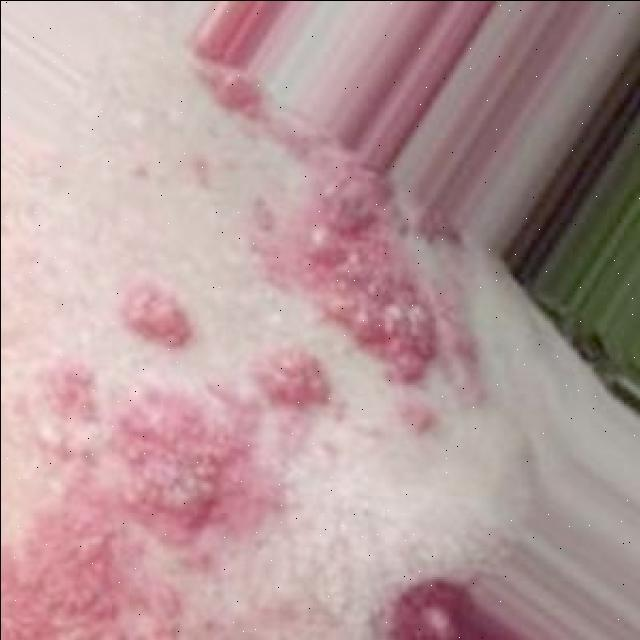Shingles: (0, 289, 330, 639), (198, 64, 478, 426)
